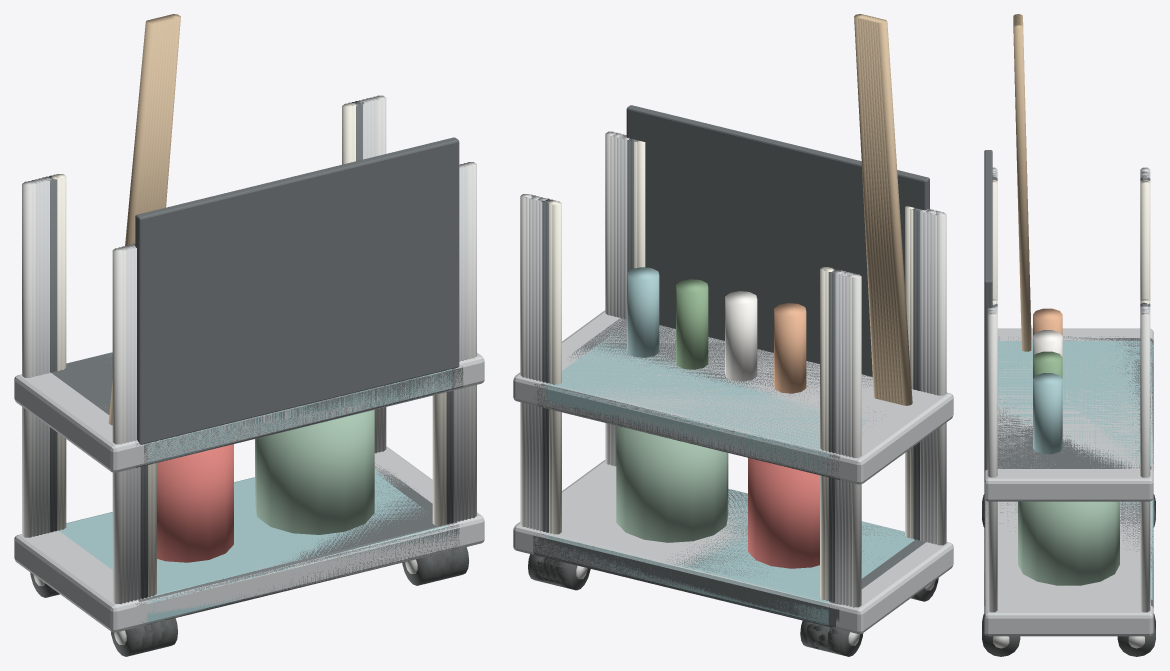
File: Gear09.fbx
3 views of the same model, side by side, from view 1: azimuth 30°, elevation 25°; view 2: azimuth 150°, elevation 25°; view 3: azimuth 270°, elevation 25° (orthographic). The views are drawn at different scales.
Visible parts, largest first — view 1: Gear09_V5_Charcoal, Gear09_V10_Charcoal, Gear09_V8_Charcoal, Gear09_V6_BrushedSteel, Gear09_V1_Sage, Gear09_V1_Blue, Gear09_V10_BrushedSteel, Gear09_V3_Charcoal, Gear09_V10_Chrome, Gear09_V4_Charcoal, Gear09_V1_Crimson, Gear09_V7_Charcoal (+14 smaller); view 2: Gear09_V5_Charcoal, Gear09_V10_BrushedSteel, Gear09_V1_Blue, Gear09_V2_Blue, Gear09_V10_Charcoal, Gear09_V4_Charcoal, Gear09_V1_Sage, Gear09_V8_BrushedSteel, Gear09_V7_BrushedSteel, Gear09_V9_Charcoal, Gear09_V10_Chrome, Gear09_V9_BrushedSteel (+25 smaller); view 3: Gear09_V9_BrushedSteel, Gear09_V2_Blue, Gear09_V10_BrushedSteel, Gear09_V1_Sage, Gear09_V10_Chrome, Gear09_V7_BrushedSteel, Gear09_V4_Charcoal, Gear09_V1_Oak, Gear09_V1_Blue, Gear09_V6_BrushedSteel, Gear09_V1_Ivory, Gear09_V10_Charcoal (+8 smaller).
Part boxes in pixels (box(x1,y1,x2,y2)): Gear09_V5_Charcoal: box(135, 141, 463, 606); Gear09_V10_Charcoal: box(135, 137, 459, 444); Gear09_V8_Charcoal: box(148, 139, 451, 442); Gear09_V6_BrushedSteel: box(37, 99, 467, 623); Gear09_V1_Sage: box(255, 410, 374, 534); Gear09_V1_Blue: box(59, 352, 446, 610); Gear09_V10_BrushedSteel: box(14, 353, 484, 632); Gear09_V3_Charcoal: box(48, 102, 455, 599); Gear09_V10_Chrome: box(22, 95, 476, 644); Gear09_V4_Charcoal: box(44, 101, 459, 626); Gear09_V1_Crimson: box(157, 444, 233, 562); Gear09_V7_Charcoal: box(147, 140, 447, 441); Gear09_V5_Charcoal: box(533, 109, 925, 621); Gear09_V10_BrushedSteel: box(513, 310, 953, 633); Gear09_V1_Blue: box(547, 267, 869, 624); Gear09_V2_Blue: box(544, 334, 914, 625); Gear09_V10_Charcoal: box(626, 105, 929, 351); Gear09_V4_Charcoal: box(537, 138, 922, 627); Gear09_V1_Sage: box(616, 425, 728, 542); Gear09_V8_BrushedSteel: box(522, 133, 938, 606); Gear09_V7_BrushedSteel: box(526, 134, 935, 608); Gear09_V9_Charcoal: box(630, 108, 922, 344); Gear09_V10_Chrome: box(520, 131, 946, 645); Gear09_V9_BrushedSteel: box(519, 314, 940, 632); Gear09_V9_BrushedSteel: box(984, 330, 1153, 614); Gear09_V2_Blue: box(997, 341, 1153, 599); Gear09_V10_BrushedSteel: box(984, 328, 1153, 636); Gear09_V1_Sage: box(1018, 501, 1119, 585); Gear09_V10_Chrome: box(987, 167, 1150, 648); Gear09_V7_BrushedSteel: box(984, 172, 1153, 609); Gear09_V4_Charcoal: box(984, 176, 1153, 606); Gear09_V1_Oak: box(1013, 23, 1031, 351); Gear09_V1_Blue: box(984, 373, 1152, 599); Gear09_V6_BrushedSteel: box(985, 173, 1153, 569); Gear09_V1_Ivory: box(992, 181, 1150, 302); Gear09_V10_Charcoal: box(984, 150, 992, 471).
Bounding box in the file's own units: 85.75 × 135 × 41.
